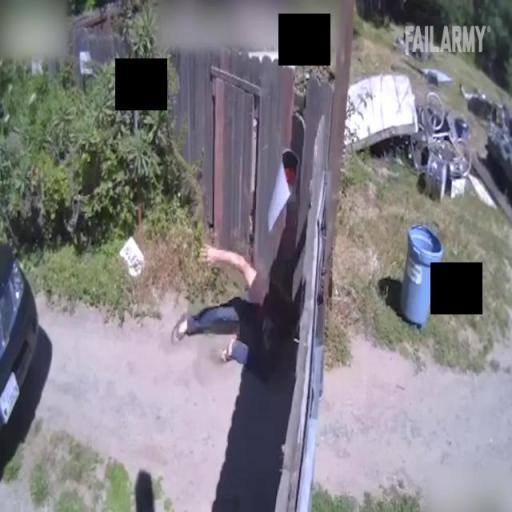Fall: (172, 244, 299, 382)
